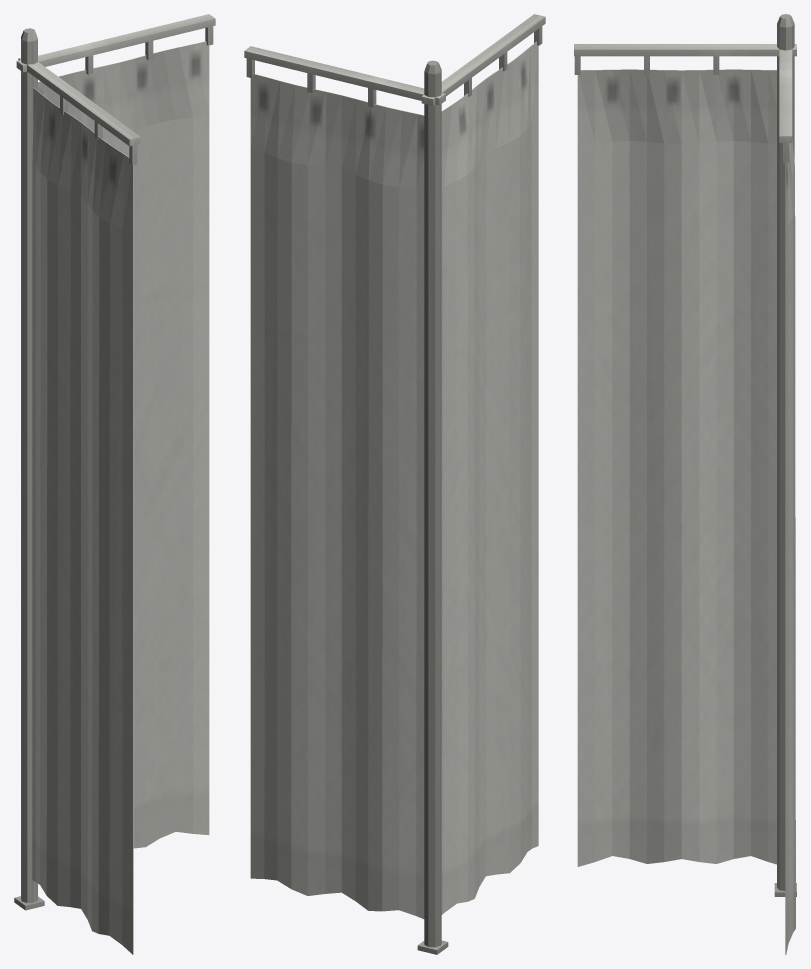
File: pool_curtain_corner.glb
3 renders of one model, left to right at view 1: azimuth 30°, elevation 25°; view 2: azimuth 150°, elevation 25°; view 3: azimuth 270°, elevation 25°, orthographic.
Visible parts, largest first — view 1: core_pool_curtain_corner; view 2: core_pool_curtain_corner; view 3: core_pool_curtain_corner.
Part boxes in pixels (x1,y1,x2,y2): core_pool_curtain_corner: (14, 14, 215, 954); core_pool_curtain_corner: (244, 14, 545, 954); core_pool_curtain_corner: (574, 14, 796, 954).
Bounding box in the file's own units: 0.6 × 2.6 × 0.6.
1 material, 1 textured.
